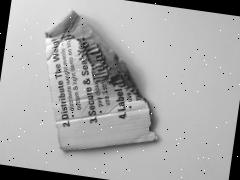cardboard: (7, 0, 190, 180)
